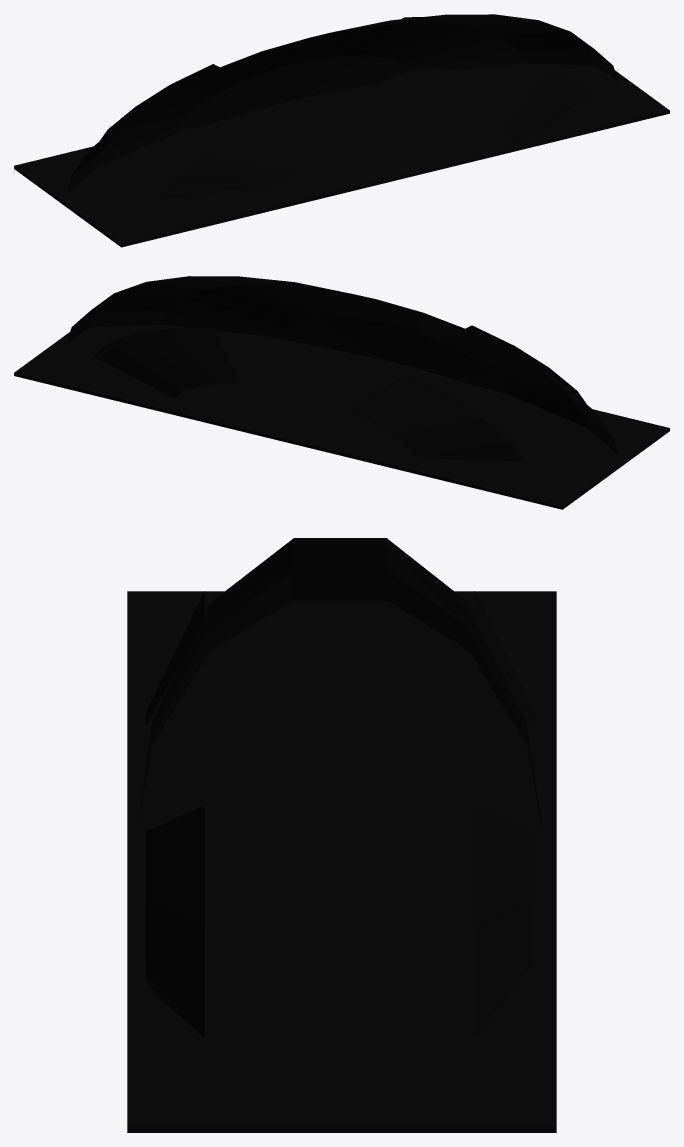
Rendered from AsyBack.glb.
The picture shows the model from 3 angles, top to bottom: view 1: azimuth 30°, elevation 25°; view 2: azimuth 150°, elevation 25°; view 3: azimuth 270°, elevation 25°; orthographic projection. The views are drawn at different scales.
Parts seen in each view (by area): view 1: AsyBack; view 2: AsyBack; view 3: AsyBack.
Boxes of the visible parts, bbox=[...] form: AsyBack: bbox=[14, 14, 669, 247]; AsyBack: bbox=[14, 276, 669, 509]; AsyBack: bbox=[127, 538, 556, 1132].
Bounding box in the file's own units: 359 × 62.84 × 122.
Materials: 1 (1 with a texture image).
